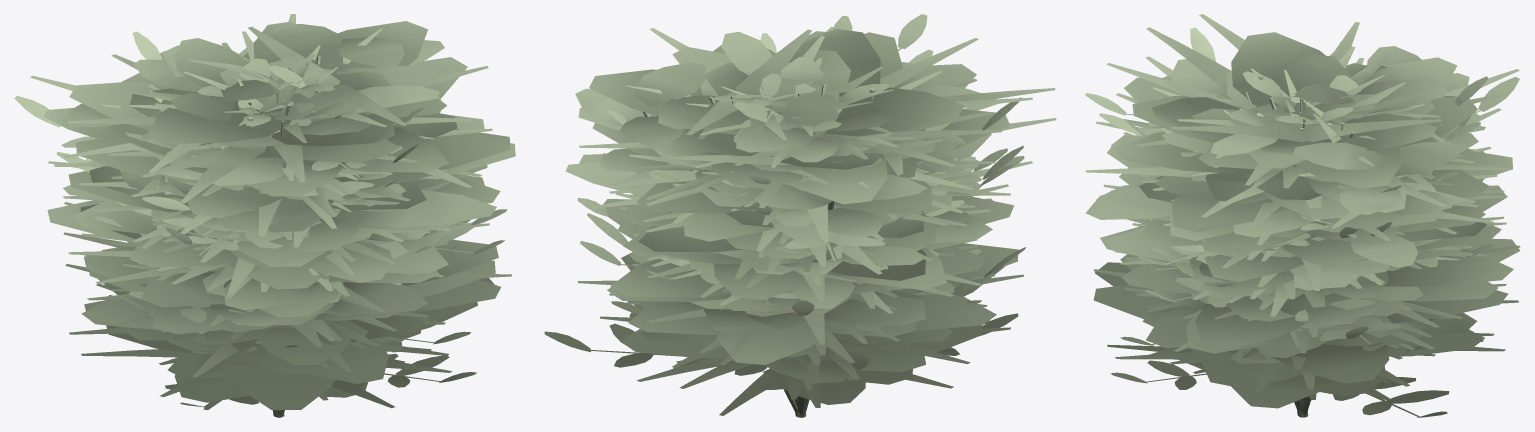
File: herb_erect.glb
3 views of the same model, side by side, from view 1: azimuth 30°, elevation 25°; view 2: azimuth 150°, elevation 25°; view 3: azimuth 270°, elevation 25° (orthographic). The views are drawn at different scales.
Visible parts, largest first — view 1: v5_foliage, v8_foliage, v4_foliage, v25_foliage, v30_foliage, v0_foliage, v19_foliage, v31_foliage, v11_foliage, v6_foliage, v26_foliage, v15_foliage (+10 smaller); view 2: v5_foliage, v8_foliage, v0_foliage, v30_foliage, v4_foliage, v25_foliage, v31_foliage, v19_foliage, v11_foliage, v15_foliage, v6_foliage, v26_foliage (+12 smaller); view 3: v5_foliage, v8_foliage, v4_foliage, v0_foliage, v25_foliage, v30_foliage, v19_foliage, v11_foliage, v31_foliage, v26_foliage, v12_foliage, v6_foliage (+11 smaller).
Boxes of the visible parts, bbox=[...] form: v5_foliage: bbox=[47, 21, 515, 417]; v8_foliage: bbox=[69, 57, 500, 402]; v4_foliage: bbox=[125, 22, 496, 412]; v25_foliage: bbox=[30, 26, 448, 414]; v30_foliage: bbox=[63, 54, 492, 400]; v0_foliage: bbox=[44, 24, 444, 414]; v19_foliage: bbox=[160, 45, 436, 313]; v31_foliage: bbox=[54, 14, 511, 347]; v11_foliage: bbox=[14, 95, 504, 415]; v6_foliage: bbox=[140, 38, 406, 372]; v26_foliage: bbox=[48, 143, 481, 414]; v15_foliage: bbox=[85, 31, 458, 322]; v5_foliage: bbox=[579, 31, 1005, 417]; v8_foliage: bbox=[603, 28, 1018, 383]; v0_foliage: bbox=[565, 62, 980, 415]; v30_foliage: bbox=[577, 38, 1010, 399]; v4_foliage: bbox=[578, 45, 966, 404]; v25_foliage: bbox=[603, 29, 1056, 415]; v31_foliage: bbox=[609, 28, 1010, 336]; v19_foliage: bbox=[672, 47, 934, 309]; v11_foliage: bbox=[544, 88, 1024, 412]; v15_foliage: bbox=[587, 15, 1025, 315]; v6_foliage: bbox=[724, 63, 937, 316]; v26_foliage: bbox=[609, 27, 1032, 390]; v5_foliage: bbox=[1095, 32, 1520, 417]; v8_foliage: bbox=[1093, 57, 1512, 408]; v4_foliage: bbox=[1085, 112, 1480, 408]; v0_foliage: bbox=[1151, 46, 1469, 414]; v25_foliage: bbox=[1107, 27, 1519, 414]; v30_foliage: bbox=[1094, 63, 1520, 400]; v19_foliage: bbox=[1161, 54, 1440, 330]; v11_foliage: bbox=[1111, 75, 1519, 417]; v31_foliage: bbox=[1093, 22, 1508, 351]; v26_foliage: bbox=[1085, 14, 1503, 390]; v12_foliage: bbox=[1085, 93, 1493, 346]; v6_foliage: bbox=[1198, 79, 1447, 360].
Bounding box in the file's own units: 1.25 × 1 × 1.25.
